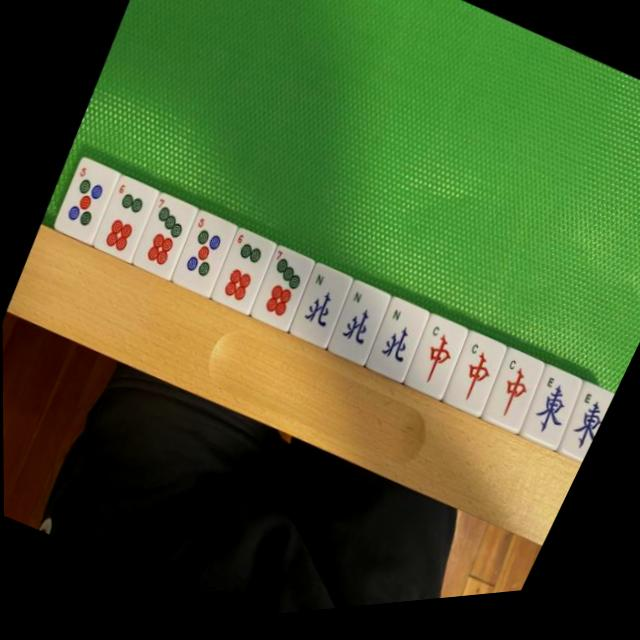hdr: (477, 354, 542, 435), (438, 338, 502, 417), (401, 321, 462, 397)
hwe: (515, 372, 580, 453), (554, 391, 614, 466)
hwn: (361, 303, 424, 381), (284, 266, 347, 343), (323, 286, 385, 363)
sd5: (47, 156, 113, 239), (165, 211, 231, 292)
sd6: (86, 174, 153, 259), (203, 227, 270, 310)
sd7: (242, 246, 313, 333), (123, 191, 192, 277)
